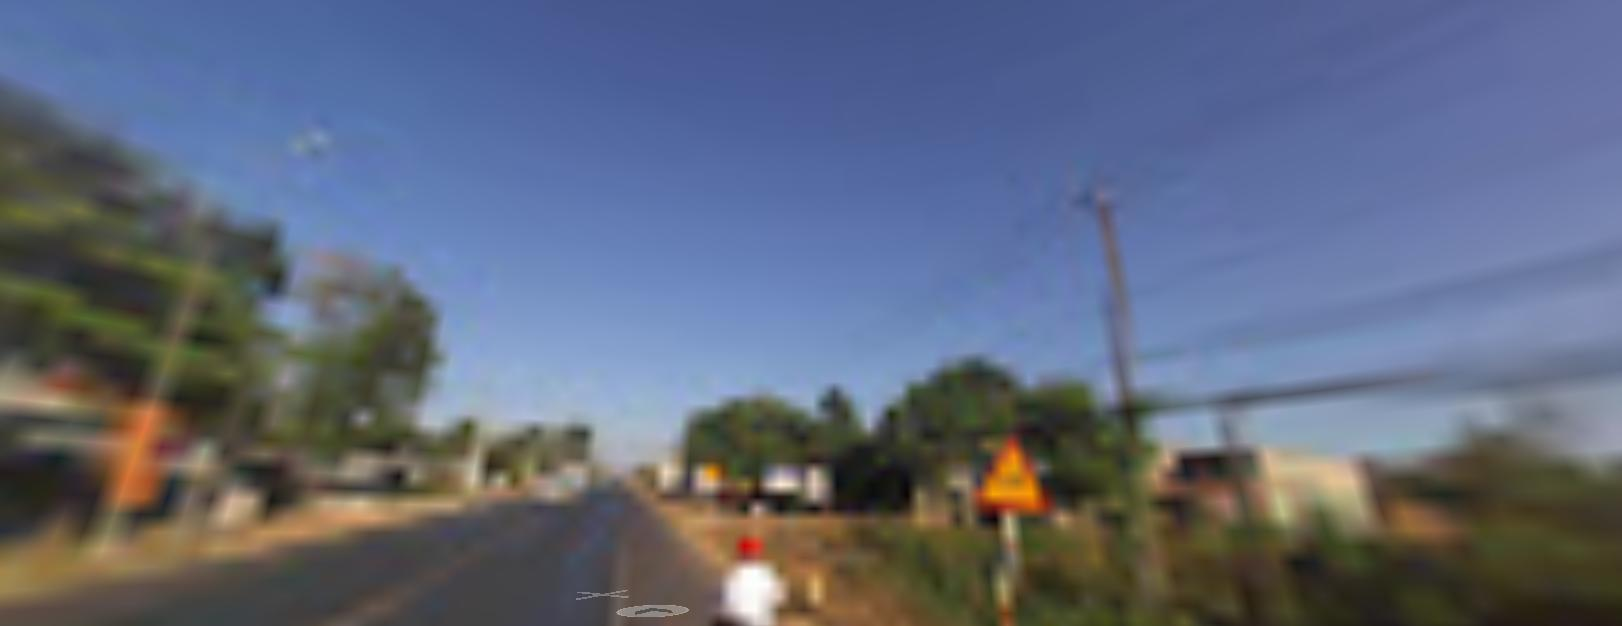Nguy hiem: (971, 430, 1055, 518)
